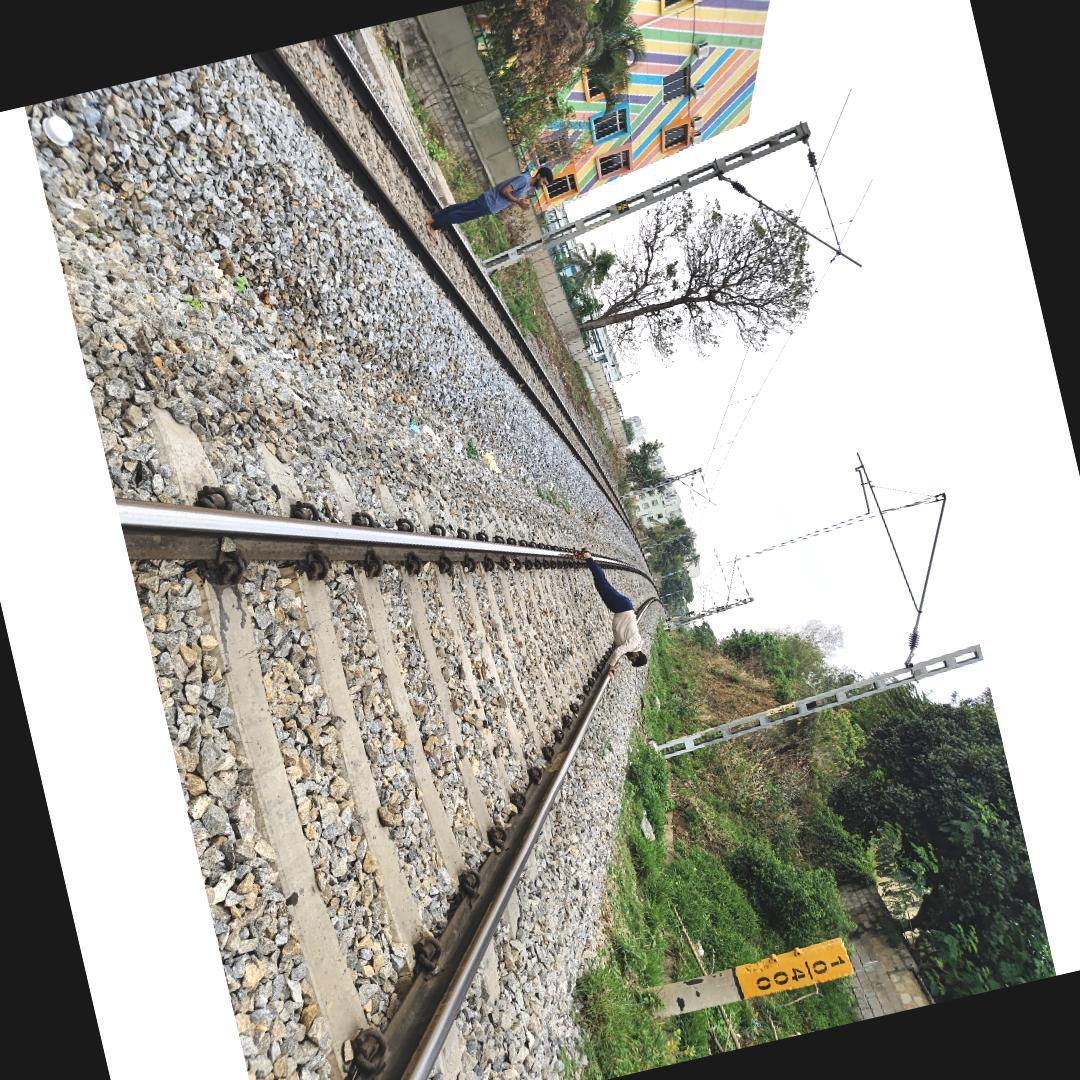sleeping: (574, 538, 650, 677)
standing: (418, 161, 562, 238)
track: (90, 392, 683, 1080), (188, 26, 659, 562)
